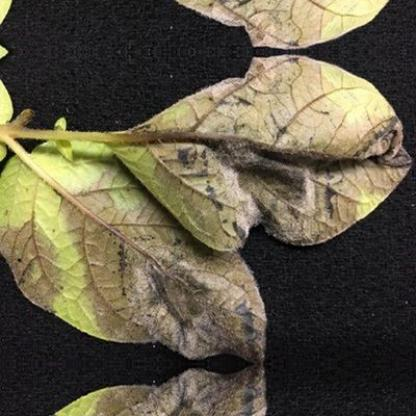Late-Blight: (103, 52, 408, 338)
